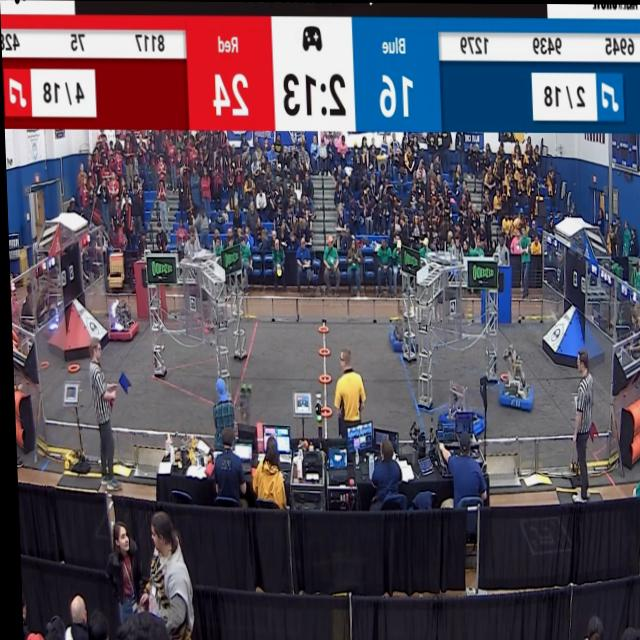Robot: (434, 375, 485, 439), (494, 343, 531, 415), (382, 295, 417, 362), (232, 383, 262, 443), (106, 293, 139, 345)
